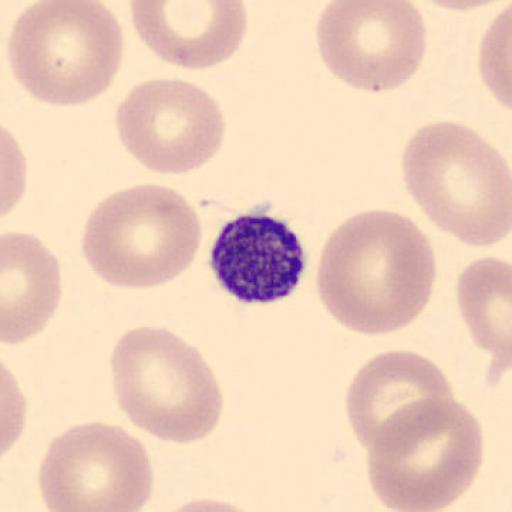Platelet: (206, 207, 310, 306)
RBC: (315, 206, 437, 338), (400, 118, 512, 250), (363, 393, 485, 512), (109, 324, 224, 446), (80, 182, 204, 292), (6, 0, 125, 109), (344, 348, 454, 455), (114, 76, 226, 178), (314, 0, 428, 95), (37, 420, 155, 511), (128, 1, 249, 71), (2, 230, 63, 345), (455, 256, 512, 362), (478, 2, 512, 115), (0, 362, 28, 459), (0, 124, 28, 220), (148, 495, 266, 512), (410, 0, 509, 11)
